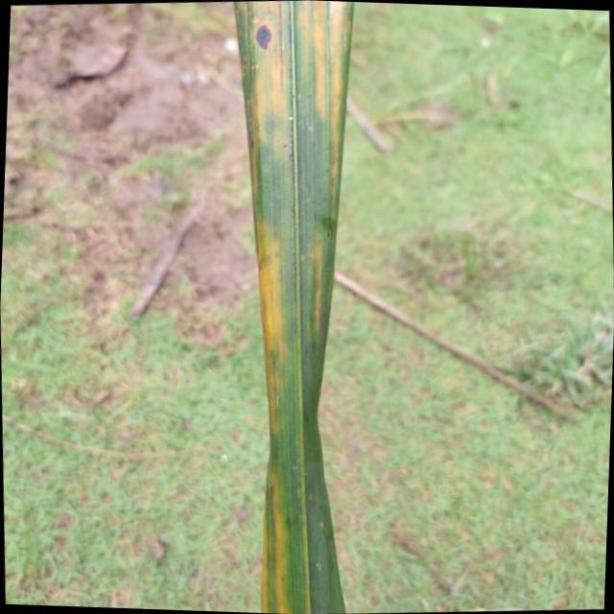Megnesium: (232, 0, 347, 614)
